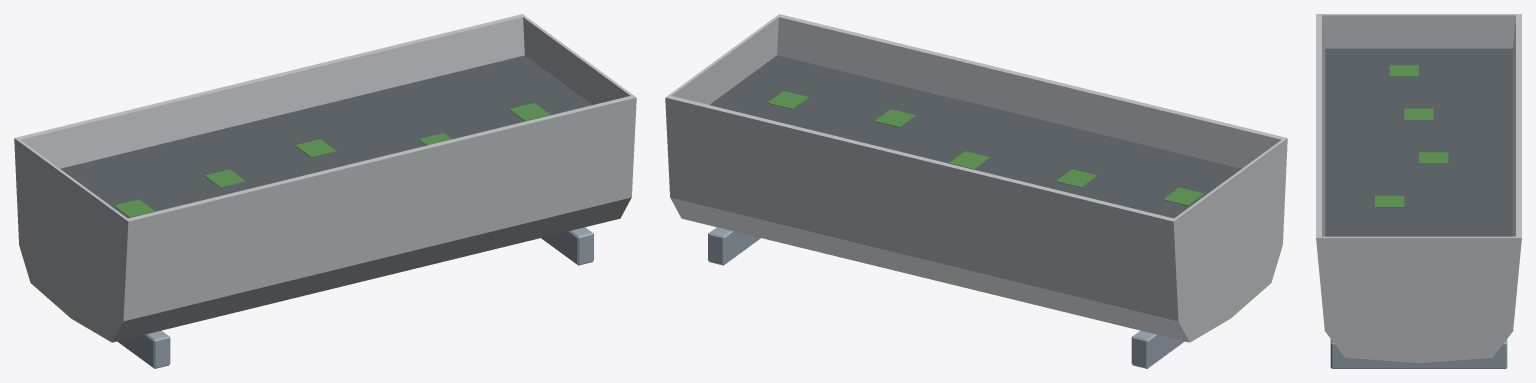
File: cocho.glb
3 renders of one model, left to right at view 1: azimuth 30°, elevation 25°; view 2: azimuth 150°, elevation 25°; view 3: azimuth 270°, elevation 25°, orthographic. The views are drawn at different scales.
Parts seen in each view (by area): view 1: cocho_chapa_galv, cocho_vidro_escuro, cocho_aco_pintado, cocho_folha_verde; view 2: cocho_chapa_galv, cocho_vidro_escuro, cocho_aco_pintado, cocho_folha_verde; view 3: cocho_chapa_galv, cocho_vidro_escuro, cocho_aco_pintado, cocho_folha_verde.
Part boxes in pixels (x1,y1,x2,y2): cocho_chapa_galv: (14,14,636,342); cocho_vidro_escuro: (60,55,592,218); cocho_aco_pintado: (117,227,593,368); cocho_folha_verde: (114,103,550,217); cocho_chapa_galv: (665,14,1287,342); cocho_vidro_escuro: (709,55,1241,218); cocho_aco_pintado: (708,227,1184,368); cocho_folha_verde: (767,91,1204,205); cocho_chapa_galv: (1316,14,1521,363); cocho_vidro_escuro: (1325,48,1512,236); cocho_aco_pintado: (1330,339,1507,368); cocho_folha_verde: (1375,65,1448,207).
Size of the model in its own units: 1.8 by 0.55 by 0.7.
